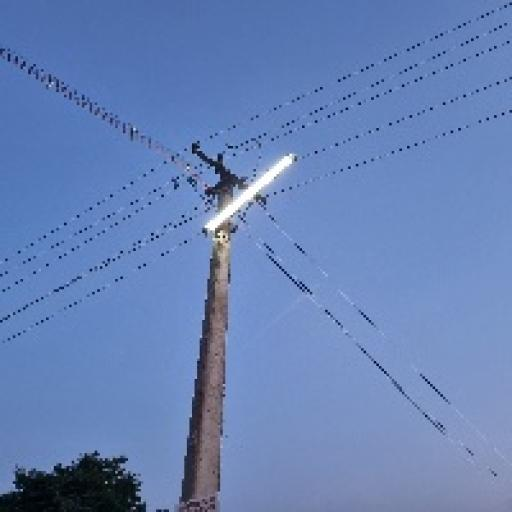Working: (186, 147, 310, 240)
